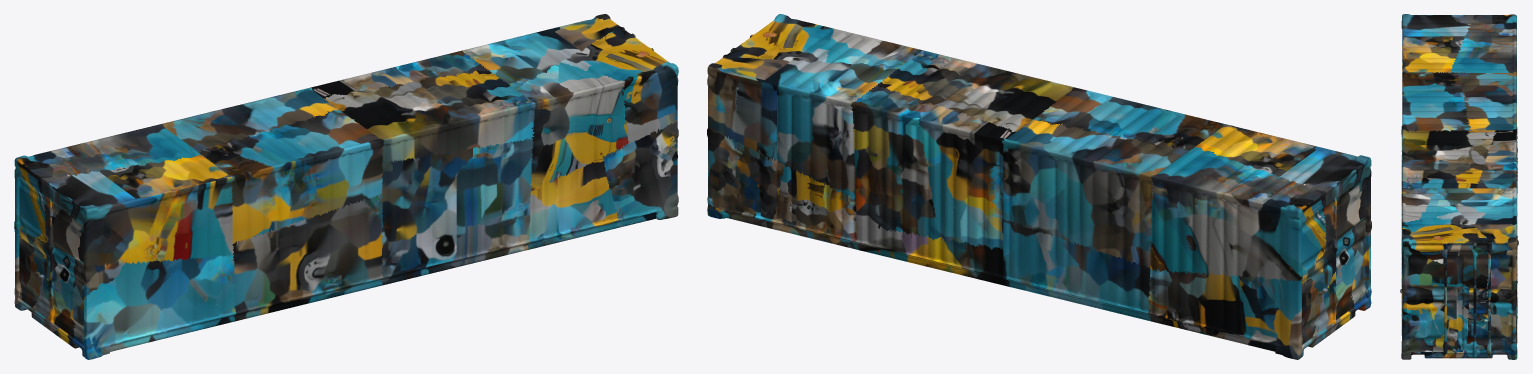
The picture shows the model from 3 angles, left to right: view 1: azimuth 30°, elevation 25°; view 2: azimuth 150°, elevation 25°; view 3: azimuth 270°, elevation 25°; orthographic projection. The views are drawn at different scales.
Visible parts, largest first — view 1: tripo_node_8b91ddfd-5baf-4494-9f34-5251e6e0a134; view 2: tripo_node_8b91ddfd-5baf-4494-9f34-5251e6e0a134; view 3: tripo_node_8b91ddfd-5baf-4494-9f34-5251e6e0a134.
Boxes of the visible parts, bbox=[...] form: tripo_node_8b91ddfd-5baf-4494-9f34-5251e6e0a134: bbox=[14, 14, 678, 359]; tripo_node_8b91ddfd-5baf-4494-9f34-5251e6e0a134: bbox=[707, 14, 1371, 359]; tripo_node_8b91ddfd-5baf-4494-9f34-5251e6e0a134: bbox=[1400, 14, 1518, 359].
Size of the model in its own units: 100 by 24.16 by 21.79.
Materials: 1 (1 with a texture image).
